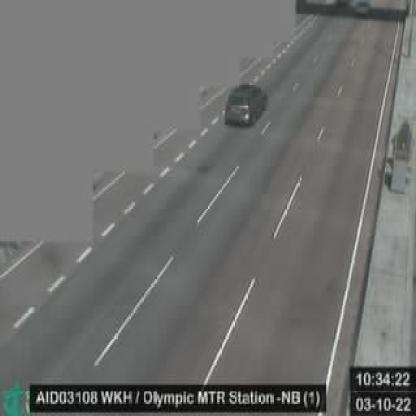Car: (223, 83, 268, 127)
